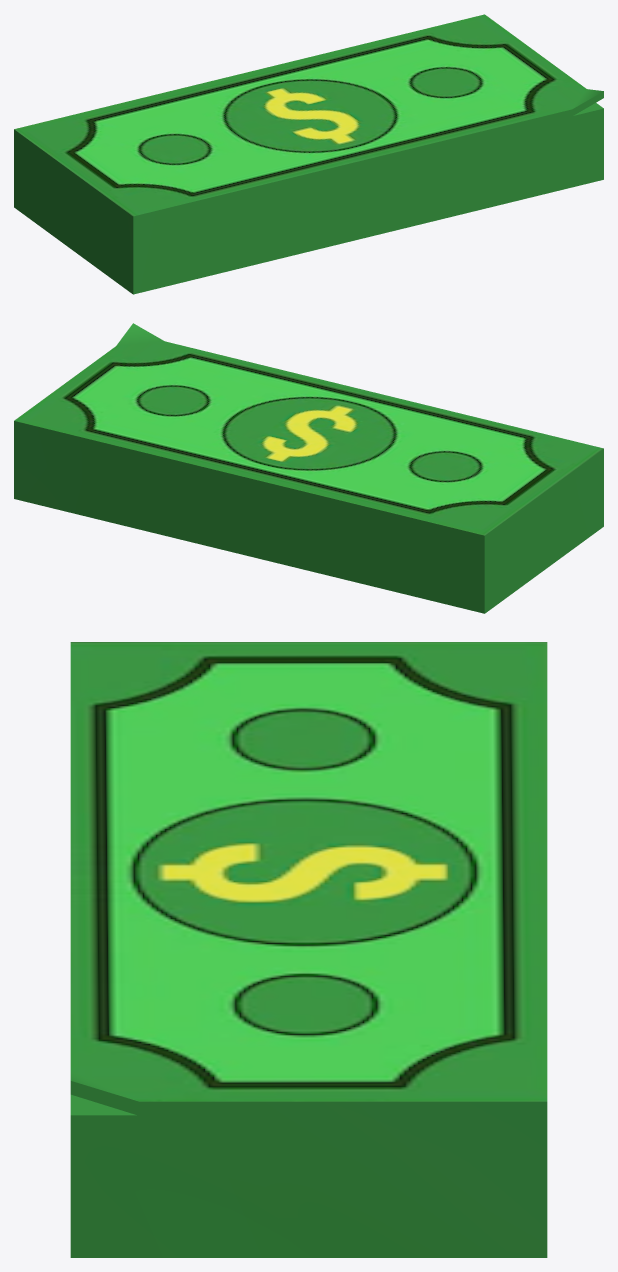
The model's file is Money_01 1.fbx.
3 renders of one model, top to bottom at view 1: azimuth 30°, elevation 25°; view 2: azimuth 150°, elevation 25°; view 3: azimuth 270°, elevation 25°, orthographic. The views are drawn at different scales.
Visible parts, largest first — view 1: Money_01; view 2: Money_01; view 3: Money_01.
Part boxes in pixels (x1,y1,x2,y2): Money_01: (14, 14, 603, 294); Money_01: (14, 323, 603, 613); Money_01: (70, 642, 547, 1257).
Size of the model in its own units: 32.2 by 5.79 by 14.11.
1 material, 1 textured.
